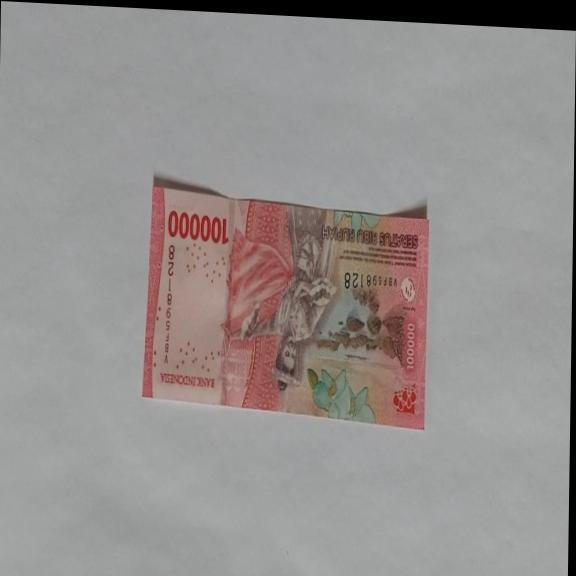Kertas: (140, 178, 430, 430), (166, 208, 229, 247)
